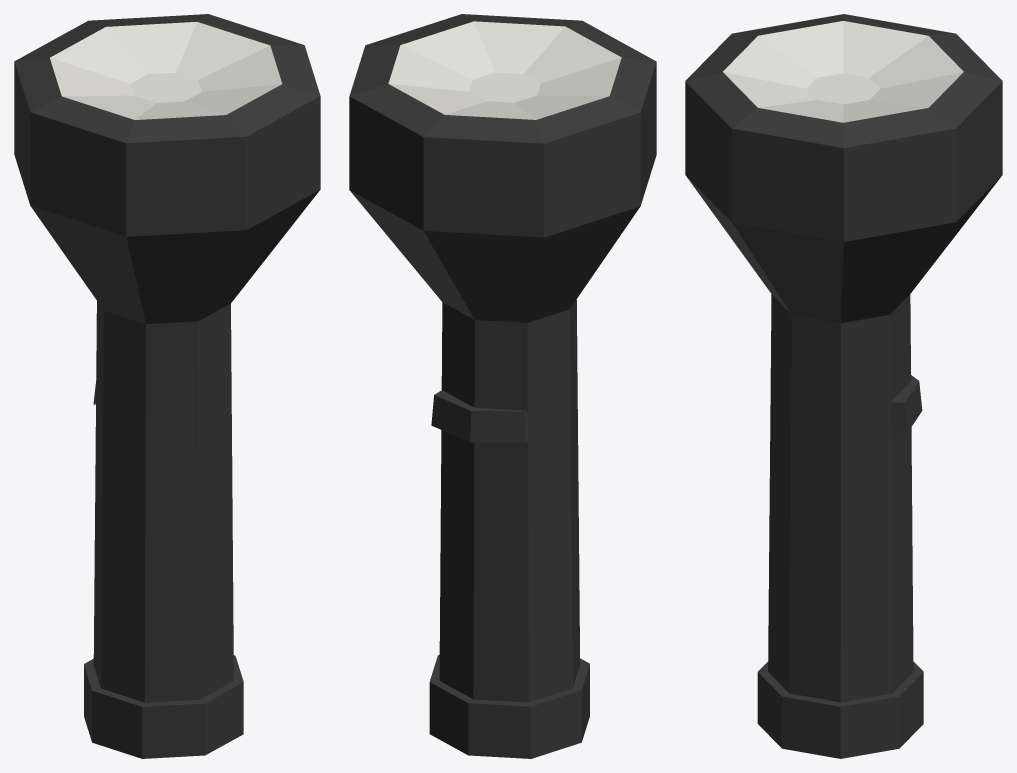
The model's file is FlashLight_Mesh.fbx.
3 renders of one model, left to right at view 1: azimuth 30°, elevation 25°; view 2: azimuth 150°, elevation 25°; view 3: azimuth 270°, elevation 25°, orthographic.
Parts seen in each view (by area): view 1: Flashlight; view 2: Flashlight; view 3: Flashlight.
Boxes of the visible parts, left/top/right/bottom form: Flashlight: left=14, top=14, right=320, bottom=758; Flashlight: left=349, top=14, right=656, bottom=758; Flashlight: left=685, top=14, right=1002, bottom=758.
Size of the model in its own units: 12.6 by 28.62 by 12.6.
1 material, 1 textured.
